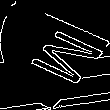M_SE: (9, 22, 101, 88)
